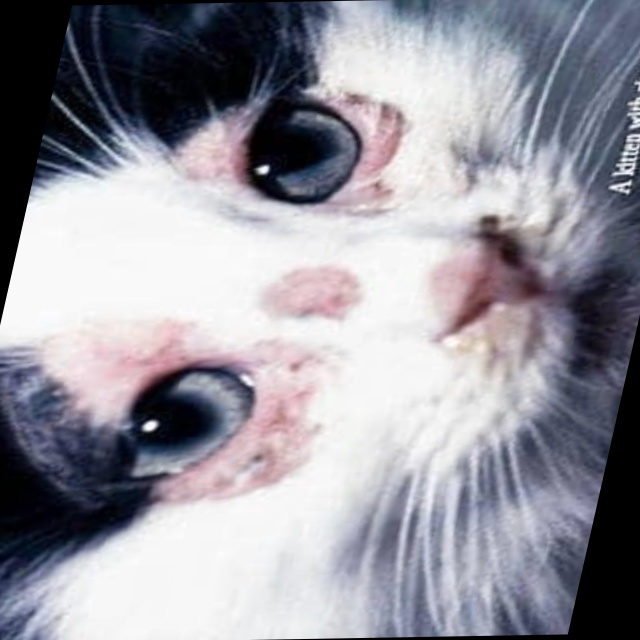ringworm: (168, 354, 343, 508), (330, 103, 414, 199), (260, 265, 371, 309)
